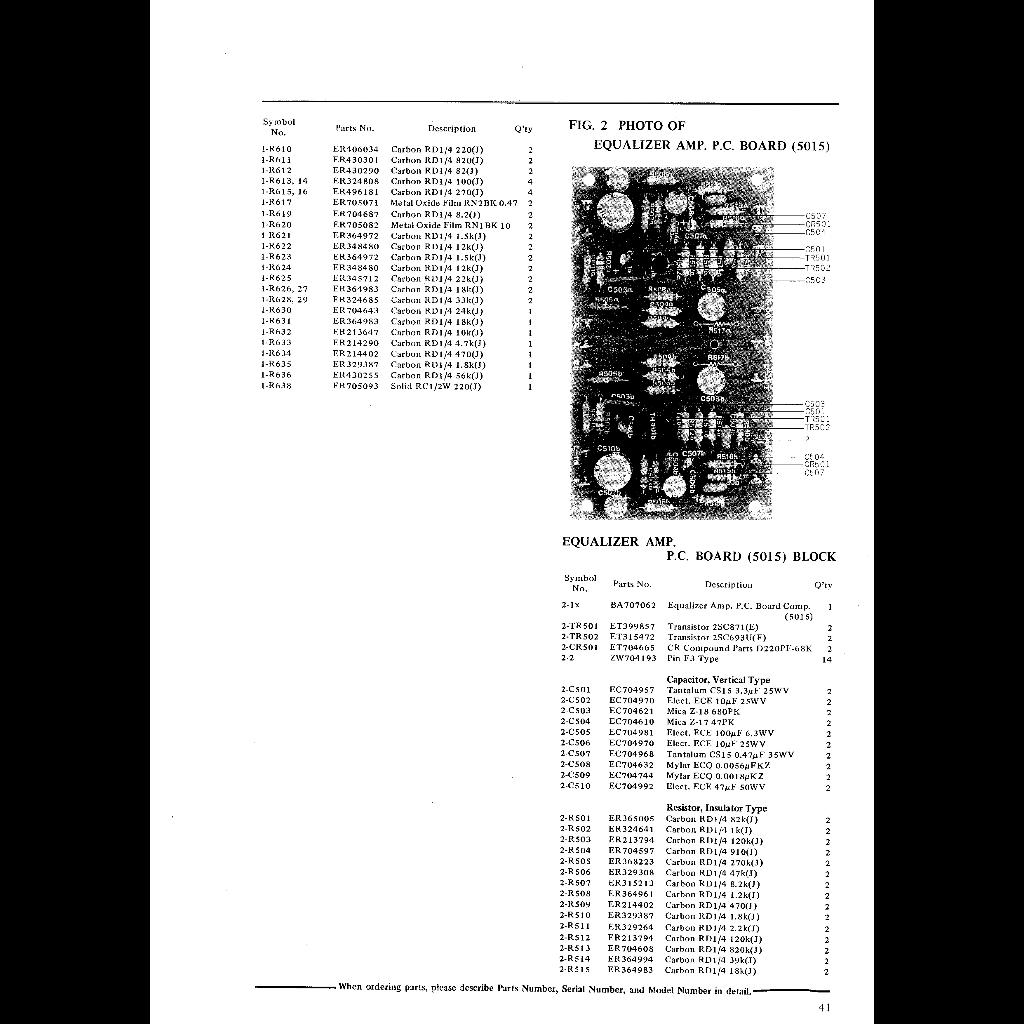Board: (567, 112, 839, 528)
Table: (550, 530, 838, 982), (256, 110, 544, 408)
